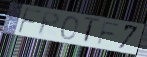7: (116, 24, 140, 51)
F: (16, 6, 43, 35), (96, 21, 122, 47)
O: (60, 15, 79, 41)
P: (37, 10, 62, 37)
T: (83, 16, 101, 47)
